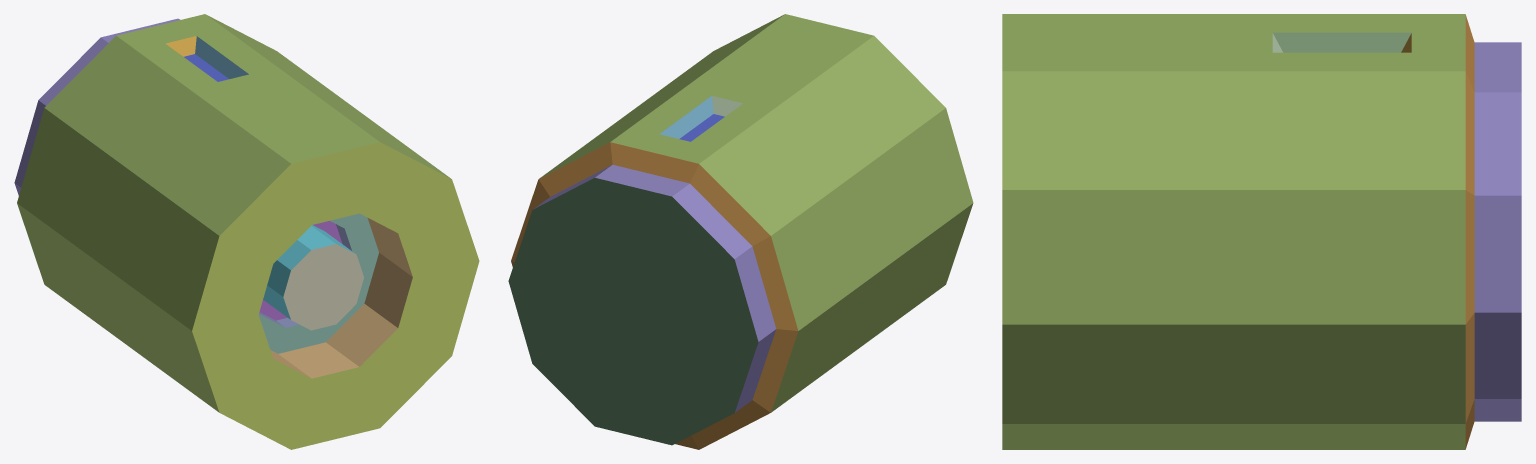
The model's file is module-timeline-02.glb.
3 views of the same model, side by side, from view 1: azimuth 30°, elevation 25°; view 2: azimuth 150°, elevation 25°; view 3: azimuth 270°, elevation 25° (orthographic). The views are drawn at different scales.
Bounding box in the file's own units: 0.42 × 0.3994 × 0.4966.
